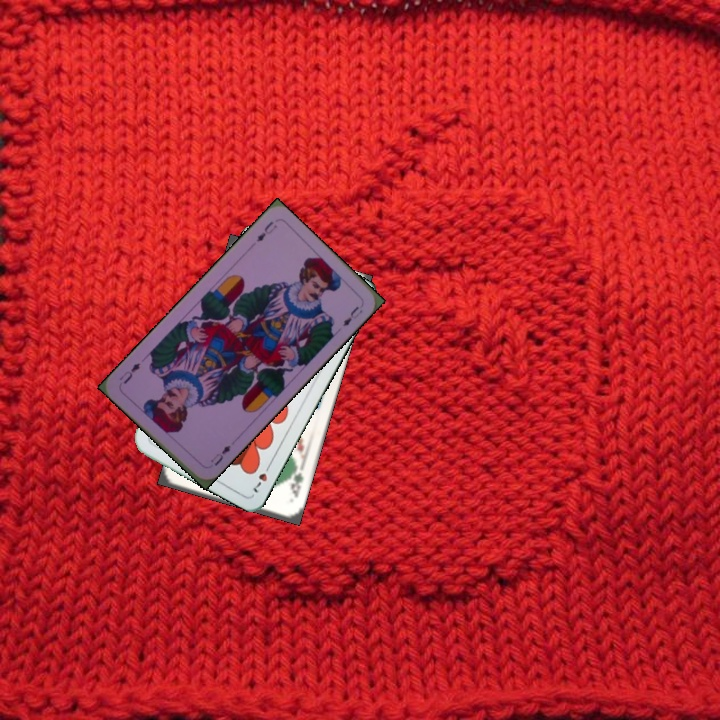EU: (206, 441, 234, 469), (252, 217, 280, 245)
GK: (286, 465, 306, 501)
H7: (249, 459, 274, 495)
